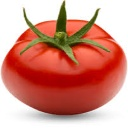tomato: (1, 20, 127, 115)
